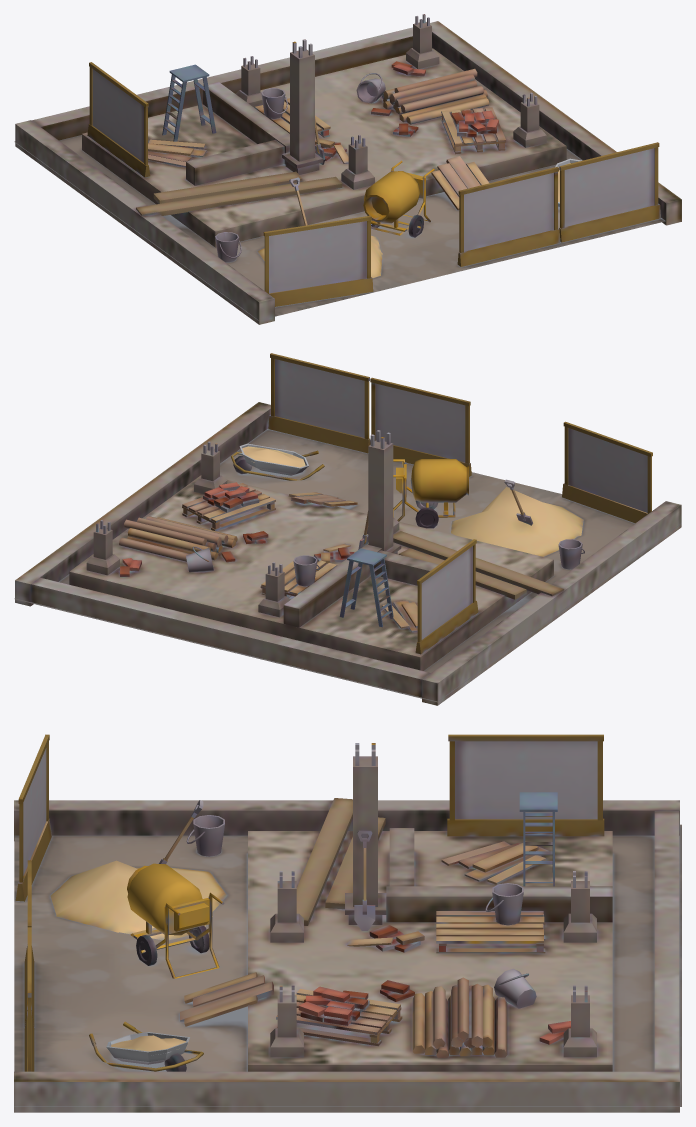
File: Construction.glb
The picture shows the model from 3 angles, top to bottom: view 1: azimuth 30°, elevation 25°; view 2: azimuth 150°, elevation 25°; view 3: azimuth 270°, elevation 25°; orthographic projection. The views are drawn at different scales.
Parts seen in each view (by area): view 1: Building; view 2: Building; view 3: Building.
Part boxes in pixels (box(x1,y1,x2,y2)): Building: box(14, 14, 681, 324); Building: box(14, 353, 681, 705); Building: box(14, 734, 681, 1112).
Bounding box in the file's own units: 10 × 3.32 × 10.01.
2 materials, 2 textured.
